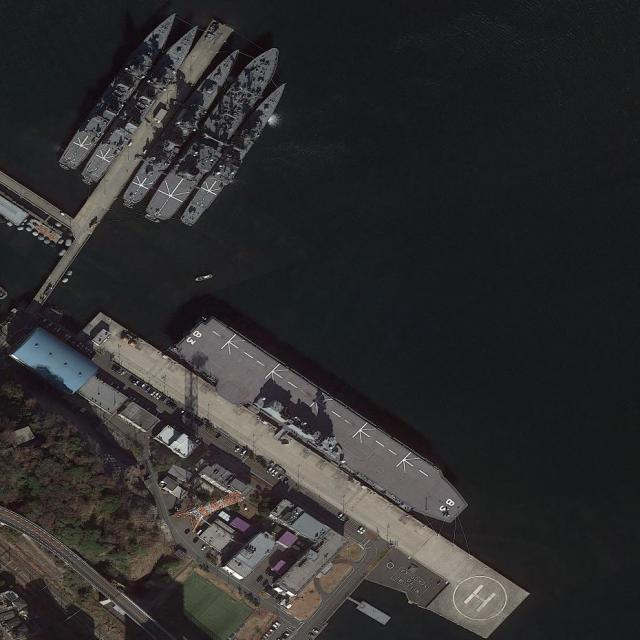Auxiliary Ships: (143, 39, 288, 227)
Destroyer: (175, 305, 476, 539), (74, 14, 206, 192), (52, 4, 187, 175), (120, 42, 248, 209), (178, 77, 296, 231)
Dock: (76, 16, 233, 231)
Other Ship: (195, 272, 215, 283), (145, 213, 160, 226), (122, 202, 136, 211), (123, 199, 136, 207)
